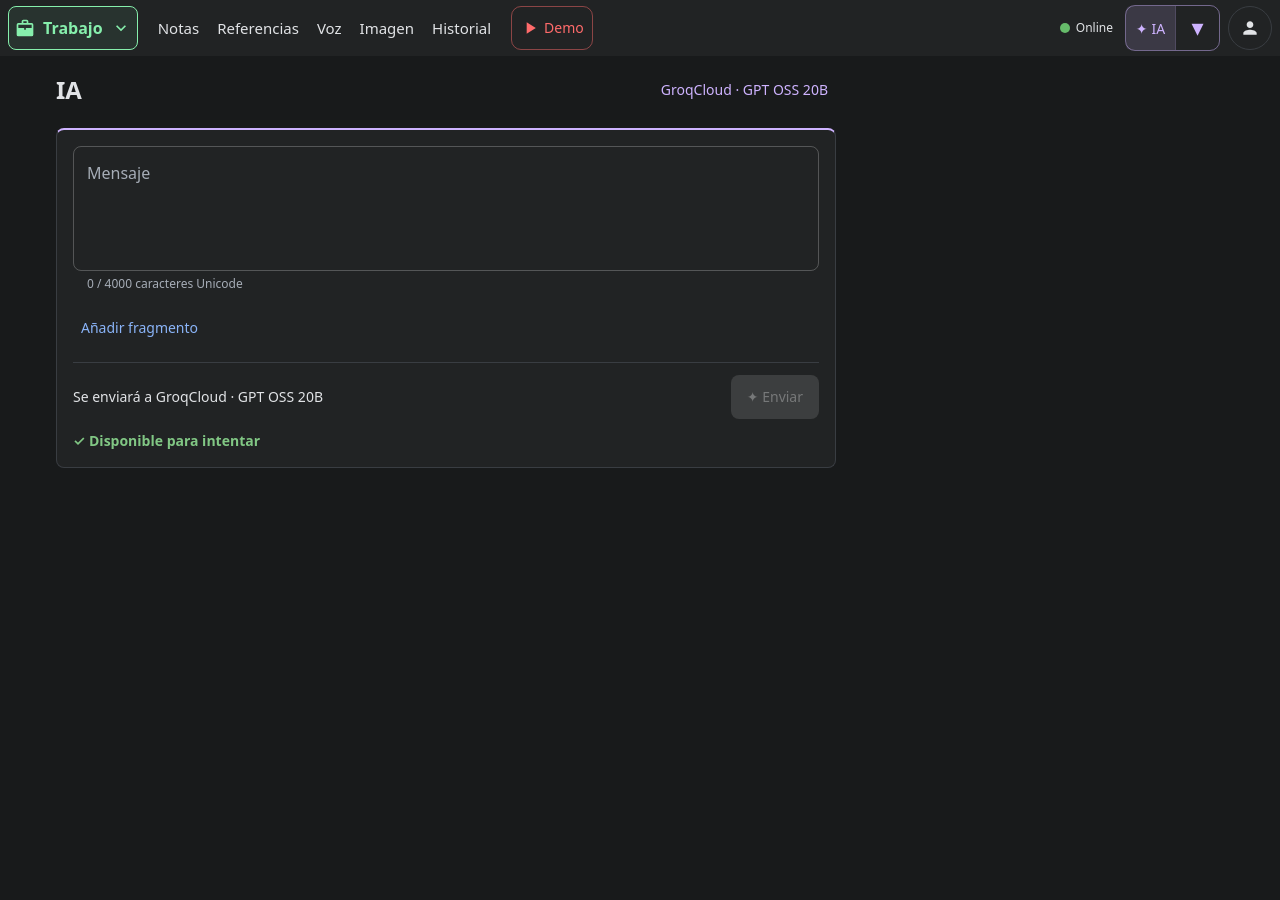
Test: IA › confirma el modelo elegido sin enviar hasta pulsar Enviar y conserva el borrador ante un límite temporal
Type "Prueba ficticia 🧪" into the text box labelled "Mensaje". click: (446, 208)
box: [87, 162, 805, 254]
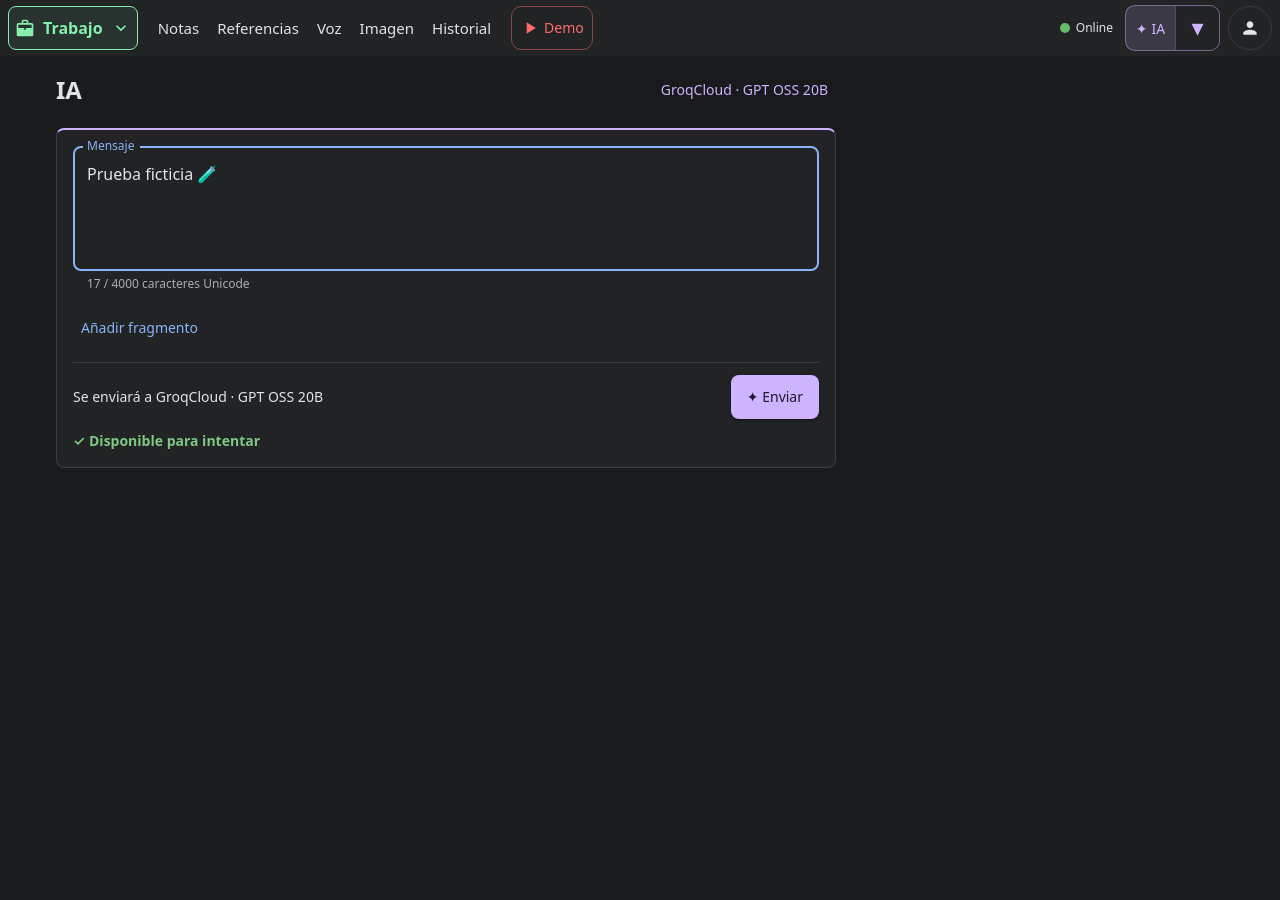
Click the button named "Elegir proveedor y modelo". click: click(1197, 28)
box: [1175, 6, 1219, 50]
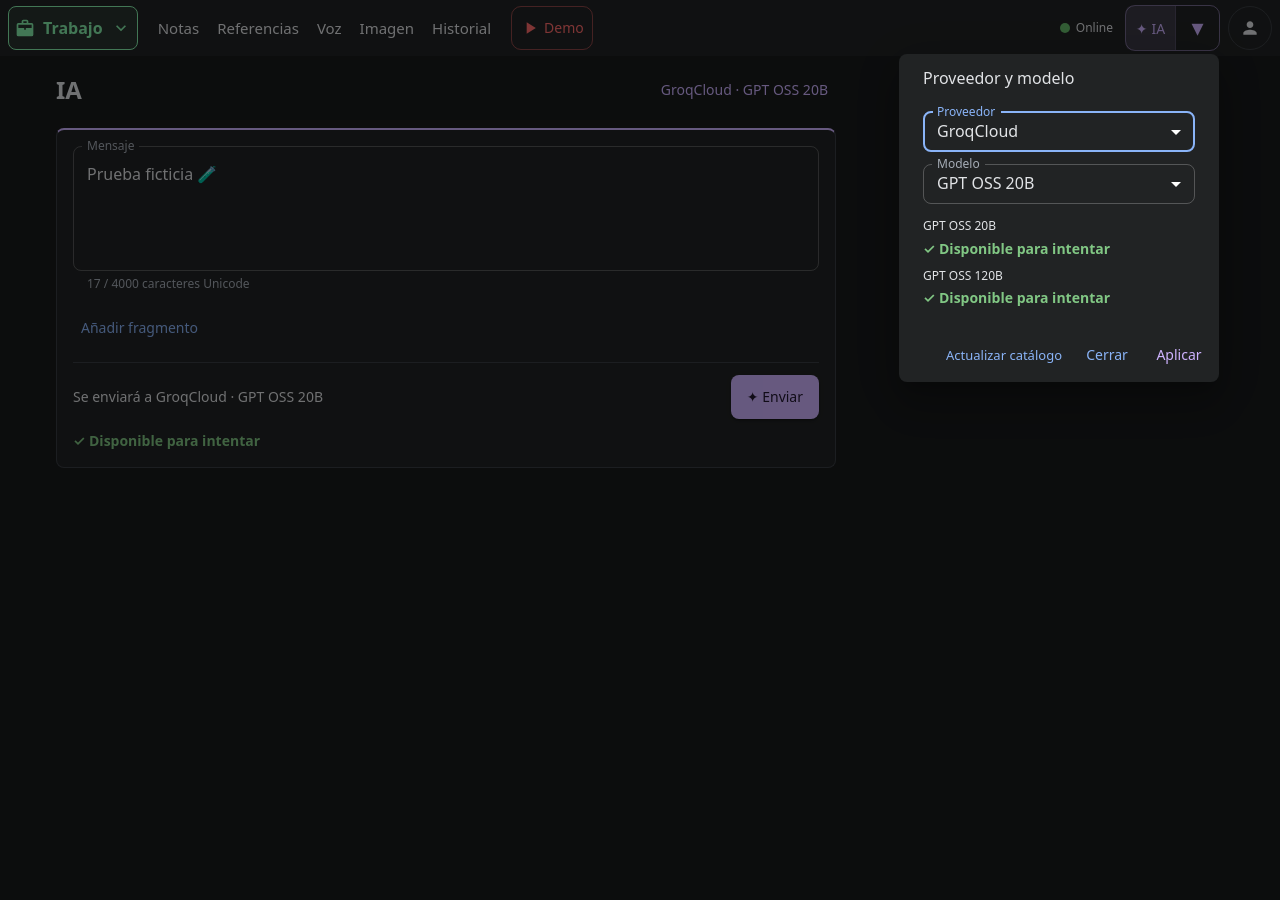
Check: the dropdown labelled "Modelo" shows "GPT OSS 20B", box [923, 164, 1195, 204]
Select "Gemini" in the dropdown labelled "Proveedor". click: (1059, 132)
box: [923, 112, 1195, 152]
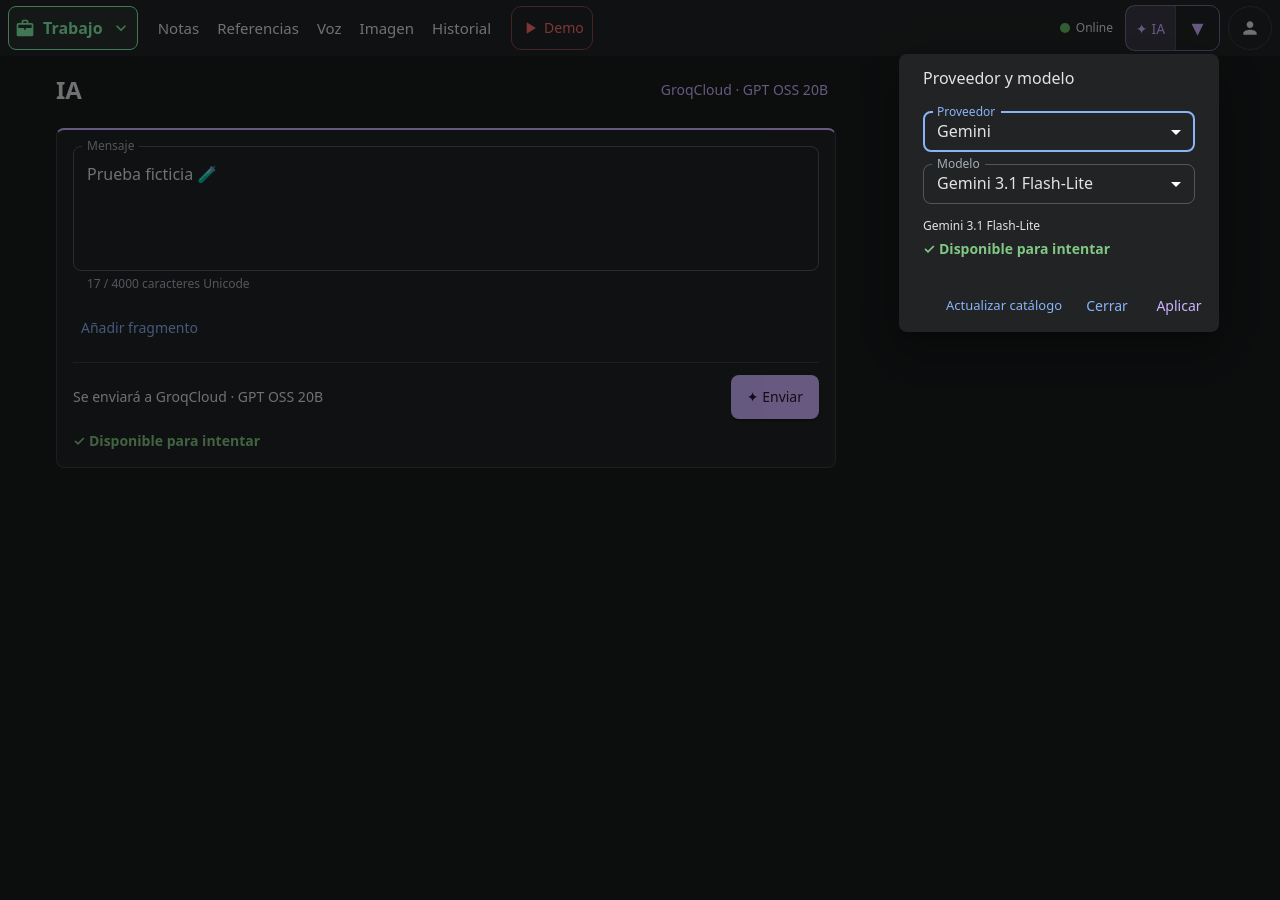
Check: the dropdown labelled "Modelo" shows "Gemini 3.1 Flash-Lite", box [923, 164, 1195, 204]
Click the button "Aplicar". click: click(1179, 306)
box: [1147, 288, 1211, 324]
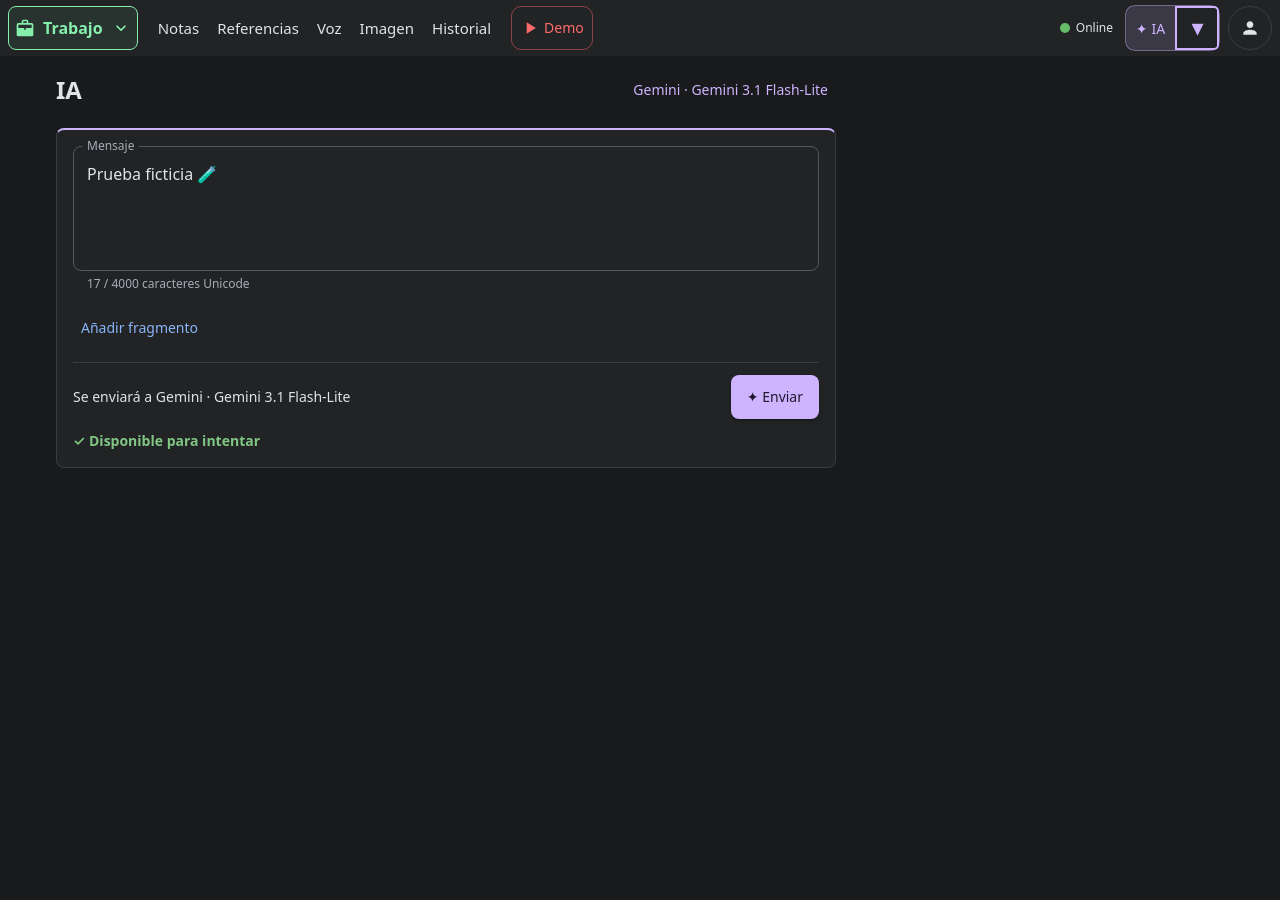
Check: the heading "Proveedor y modelo" is gone
Check: the text "Se enviará a Gemini · Gemini 3.1 Flash-Lite" is shown, box [73, 387, 350, 407]
Click the button "✦ Enviar". click: click(775, 397)
box: [731, 375, 819, 419]
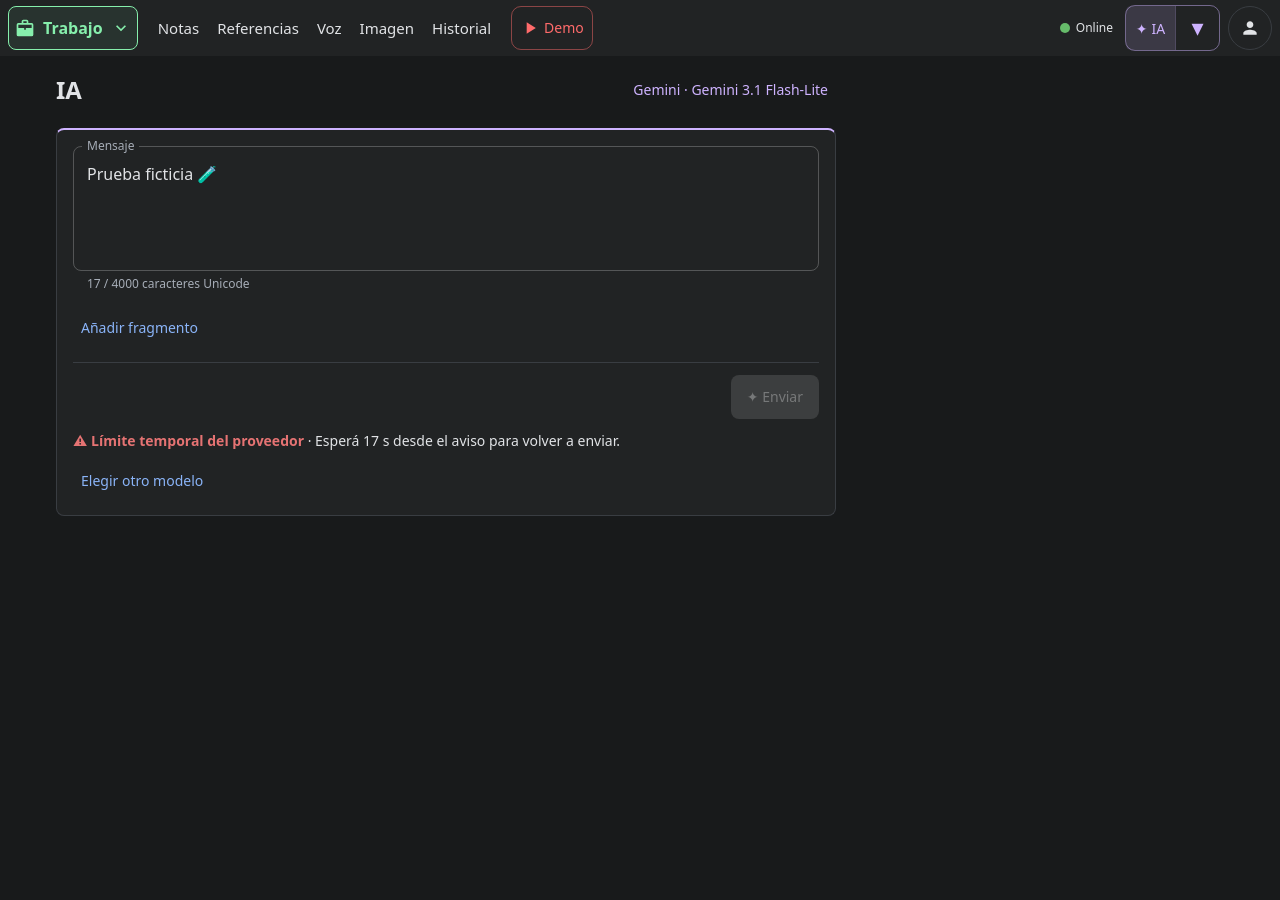
Check: the text "Límite temporal del proveedor" is shown, box [91, 431, 304, 450]
Check: the message named "Estado del destino de IA" shows "Esperá 17 s", box [304, 431, 620, 450]
Check: the button "✦ Enviar" is disabled, box [731, 375, 819, 419]
